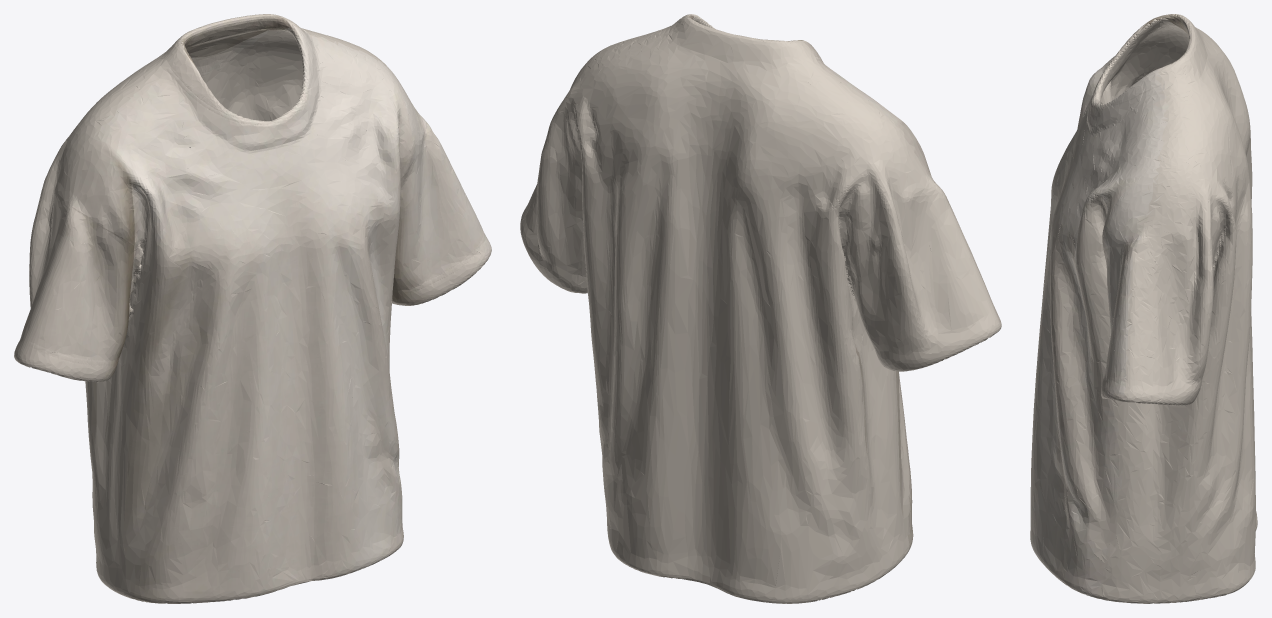
The model's file is cut-line-futbolka-sut.glb.
3 renders of one model, left to right at view 1: azimuth 30°, elevation 25°; view 2: azimuth 150°, elevation 25°; view 3: azimuth 270°, elevation 25°, orthographic. The views are drawn at different scales.
Visible parts, largest first — view 1: world; view 2: world; view 3: world.
Boxes of the visible parts, box(x1,y1,x2,y2) form: world: box(14, 14, 491, 603); world: box(520, 14, 1001, 603); world: box(1030, 14, 1257, 603).
Bounding box in the file's own units: 1.83 × 1.96 × 0.7858.
Materials: 1 (1 with a texture image).
